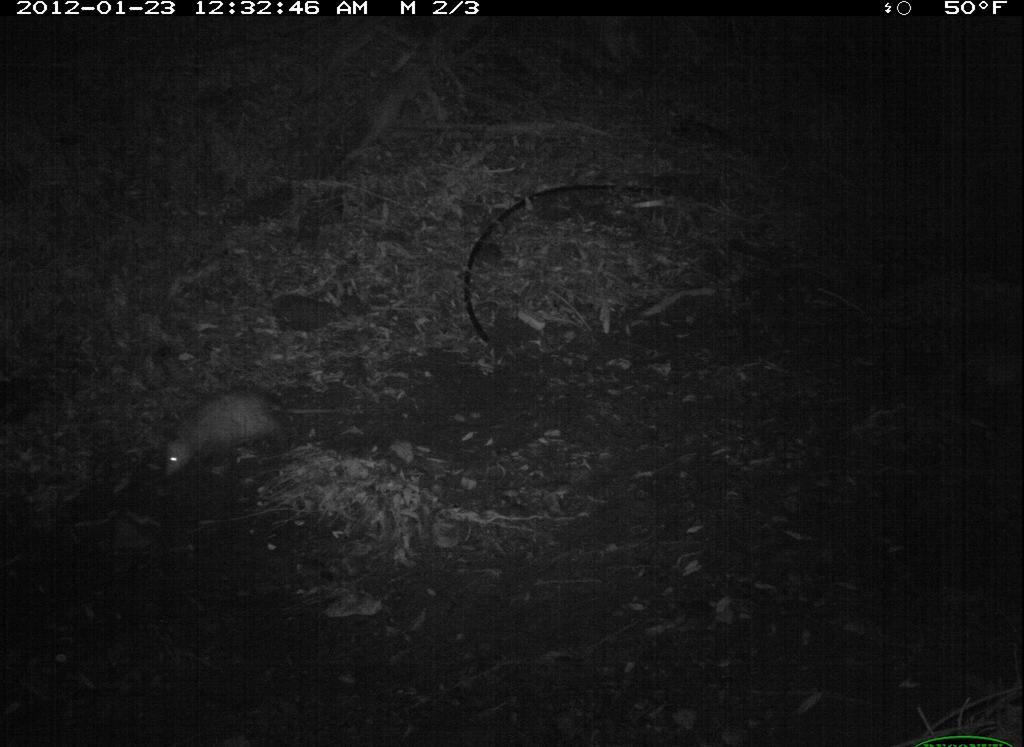opossum: (154, 377, 355, 492)
